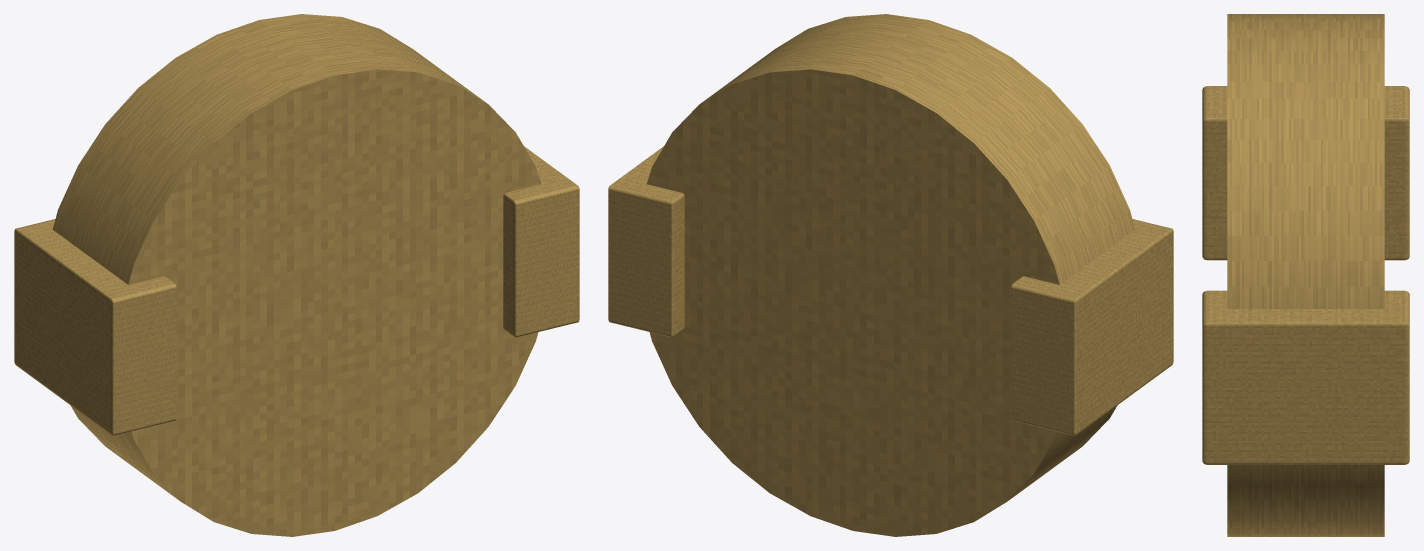
File: hose-cap.glb
3 renders of one model, left to right at view 1: azimuth 30°, elevation 25°; view 2: azimuth 150°, elevation 25°; view 3: azimuth 270°, elevation 25°, orthographic. The views are drawn at different scales.
Parts seen in each view (by area): view 1: cap, ear (×2); view 2: cap, ear (×2); view 3: cap, ear (×2).
Boxes of the visible parts, left/top/right/bottom form: cap: left=52, top=14, right=540, bottom=536; ear (×2): left=14, top=146, right=579, bottom=435; cap: left=647, top=14, right=1135, bottom=536; ear (×2): left=608, top=146, right=1173, bottom=435; cap: left=1227, top=14, right=1384, bottom=536; ear (×2): left=1202, top=86, right=1409, bottom=464.
Size of the model in its own units: 0.095 by 0.0883 by 0.035.
1 material, 1 textured.
